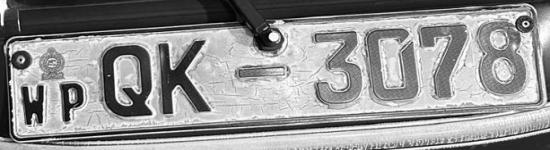-: (230, 60, 291, 89)
0: (363, 24, 421, 106)
3: (307, 26, 363, 110)
7: (418, 20, 470, 102)
8: (470, 17, 530, 101)
K: (153, 36, 218, 120)
P: (54, 81, 92, 129)
Q: (95, 39, 156, 123)
W: (17, 80, 52, 133)
